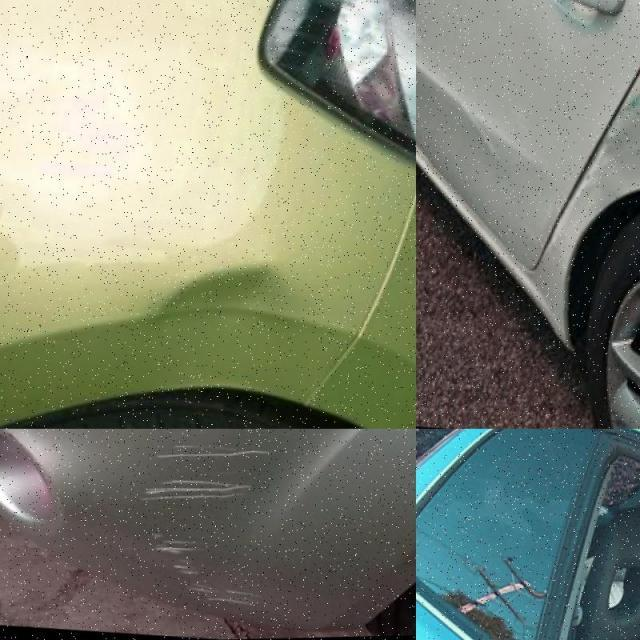car damage: (154, 257, 303, 381), (581, 93, 640, 222), (442, 591, 515, 640), (469, 566, 525, 629), (503, 551, 547, 608), (46, 567, 89, 615), (217, 608, 248, 639)
